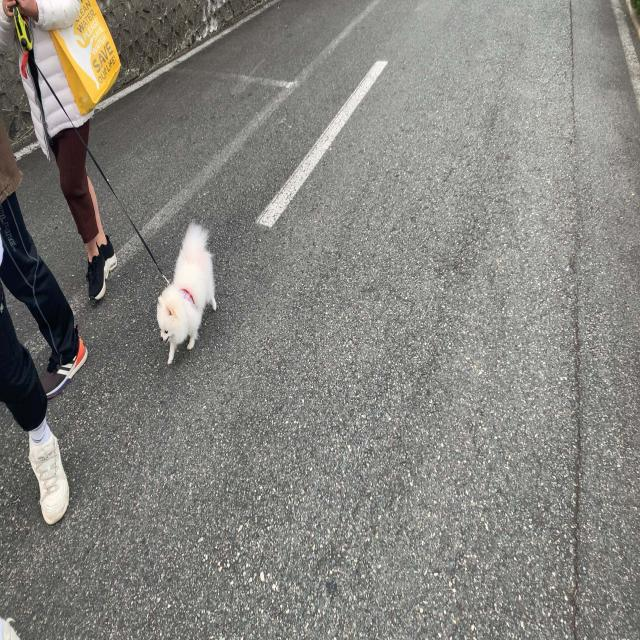Leashed_Dog: (14, 0, 217, 366)
